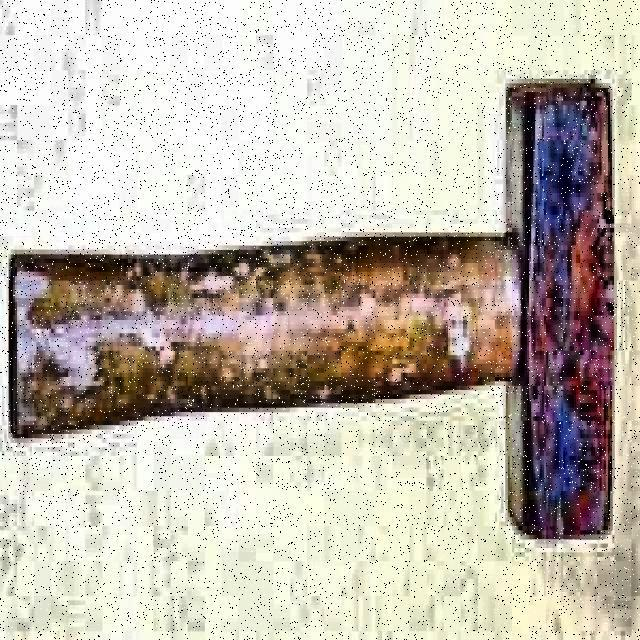hammer: (6, 72, 614, 539)
